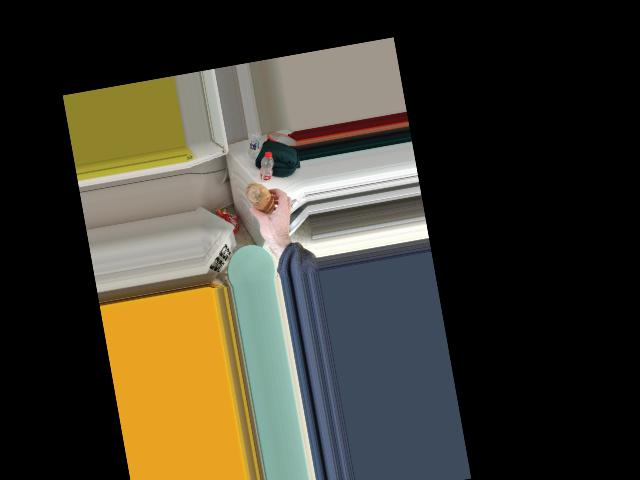sweet_potato: (244, 179, 278, 218)
